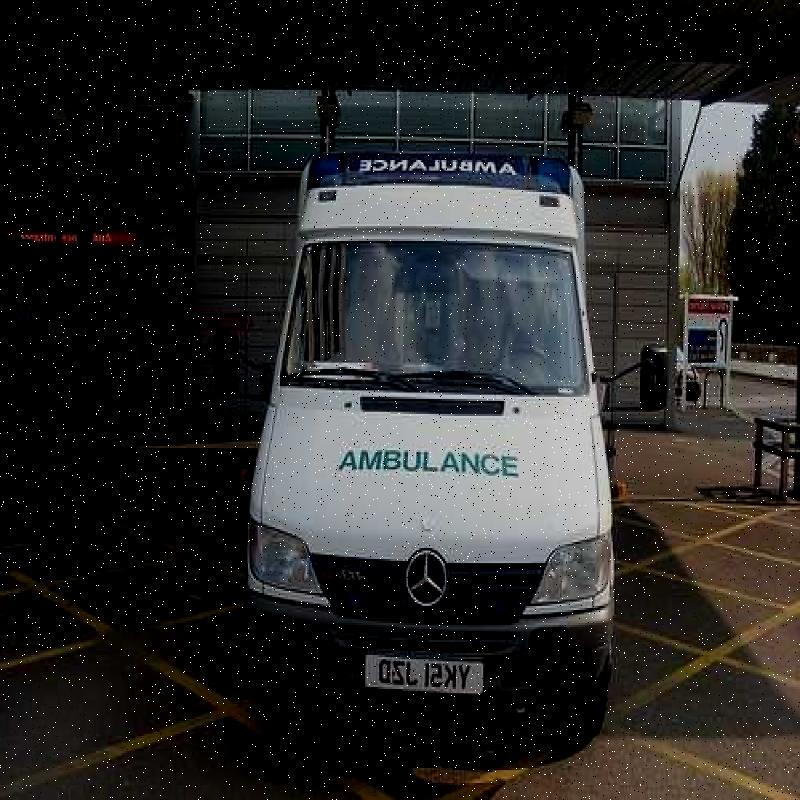ambulance: (217, 140, 638, 733)
